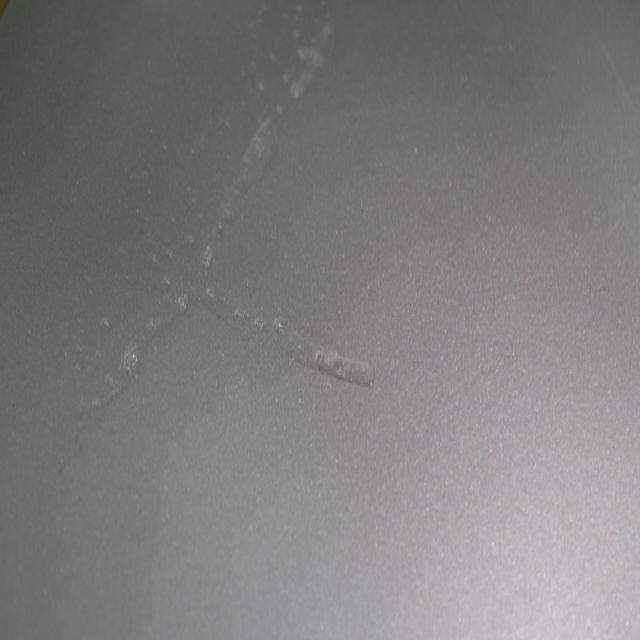runs: (81, 9, 374, 420)
